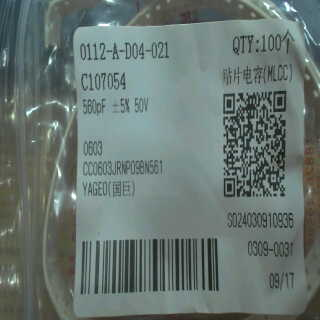560pF: (80, 96, 107, 117)
